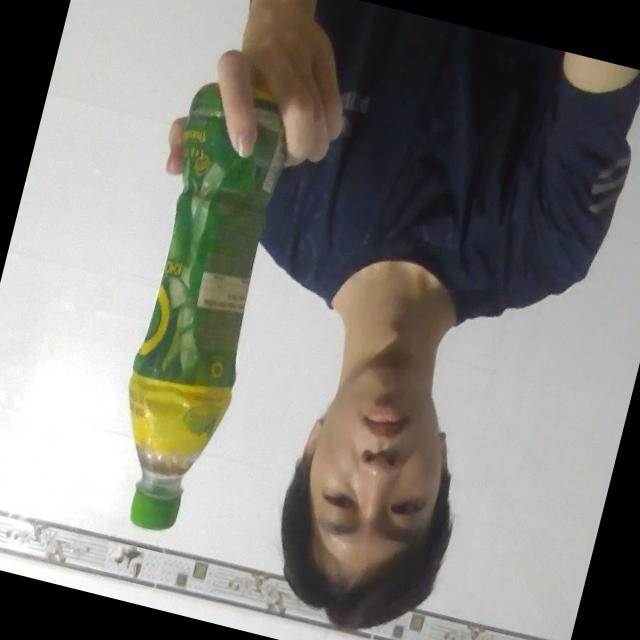tra xanh khong do: (63, 64, 312, 542)
